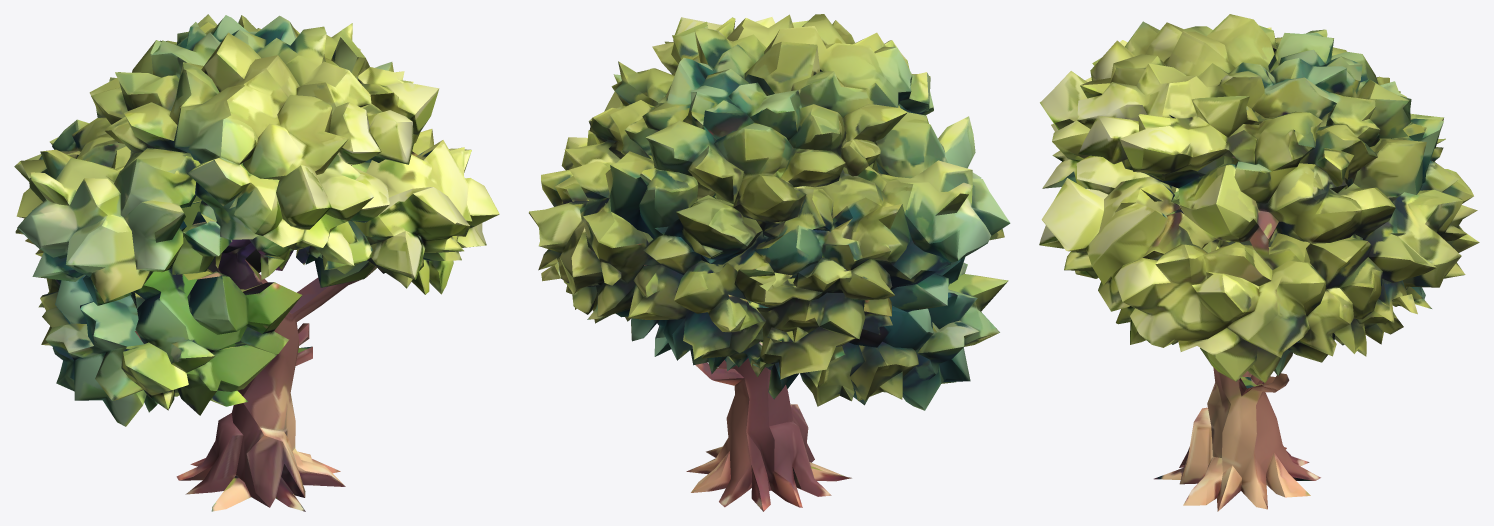
The model's file is CelCityTree1.fbx.
3 renders of one model, left to right at view 1: azimuth 30°, elevation 25°; view 2: azimuth 150°, elevation 25°; view 3: azimuth 270°, elevation 25°, orthographic.
Parts seen in each view (by area): view 1: tmpqxkx0rjcply; view 2: tmpqxkx0rjcply; view 3: tmpqxkx0rjcply.
Boxes of the visible parts, left/top/right/bottom form: tmpqxkx0rjcply: left=14, top=14, right=499, bottom=511; tmpqxkx0rjcply: left=529, top=14, right=1010, bottom=511; tmpqxkx0rjcply: left=1039, top=14, right=1479, bottom=511.
Size of the model in its own units: 1.96 by 1.97 by 1.76.
1 material, 1 textured.
